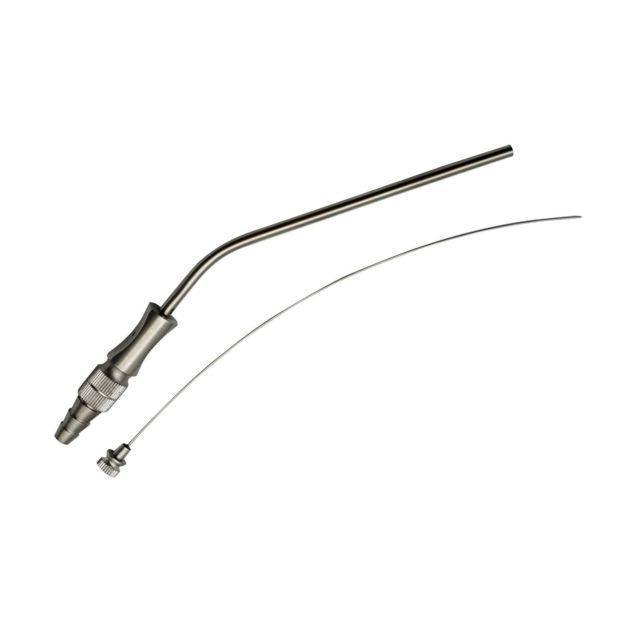Frazier: (52, 140, 518, 444)
